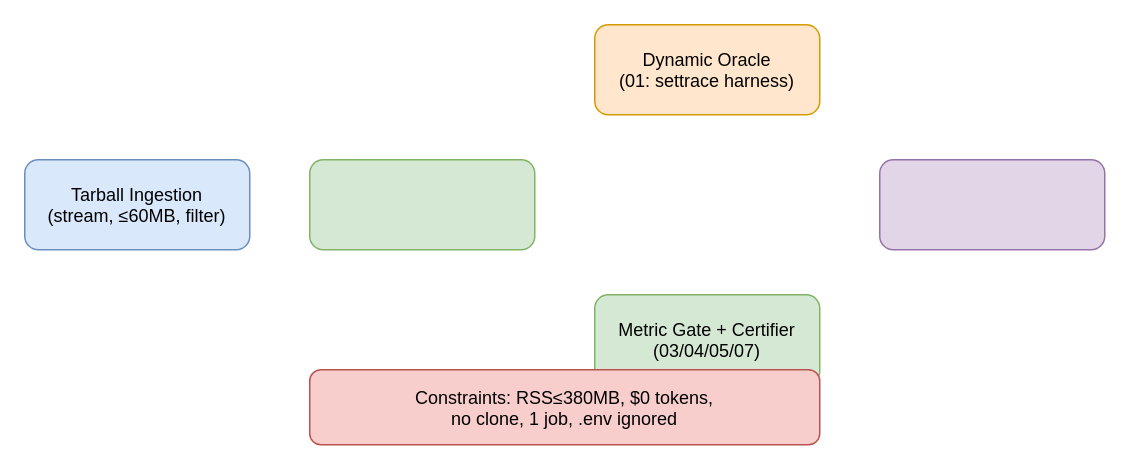
Some shapes in this 1130 by 470 pixel diagram are drawn without their labels. Each missing label, with the centre of its shape:
"Leaderboard + Docs (evidence logs)" belongs at [991,204].
"Static CPG Builder (00: ast resolve, SCC)" belongs at [421,204].
